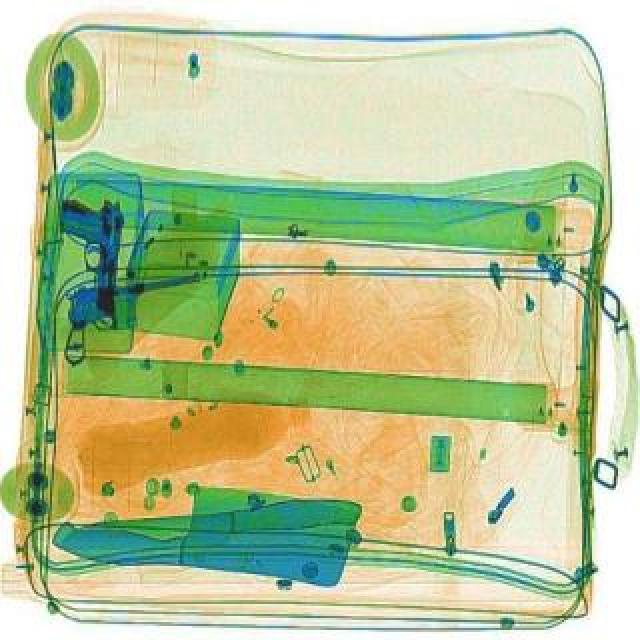gun: (48, 264, 216, 364), (52, 188, 140, 320)
knife: (48, 468, 360, 586), (58, 474, 366, 570)
